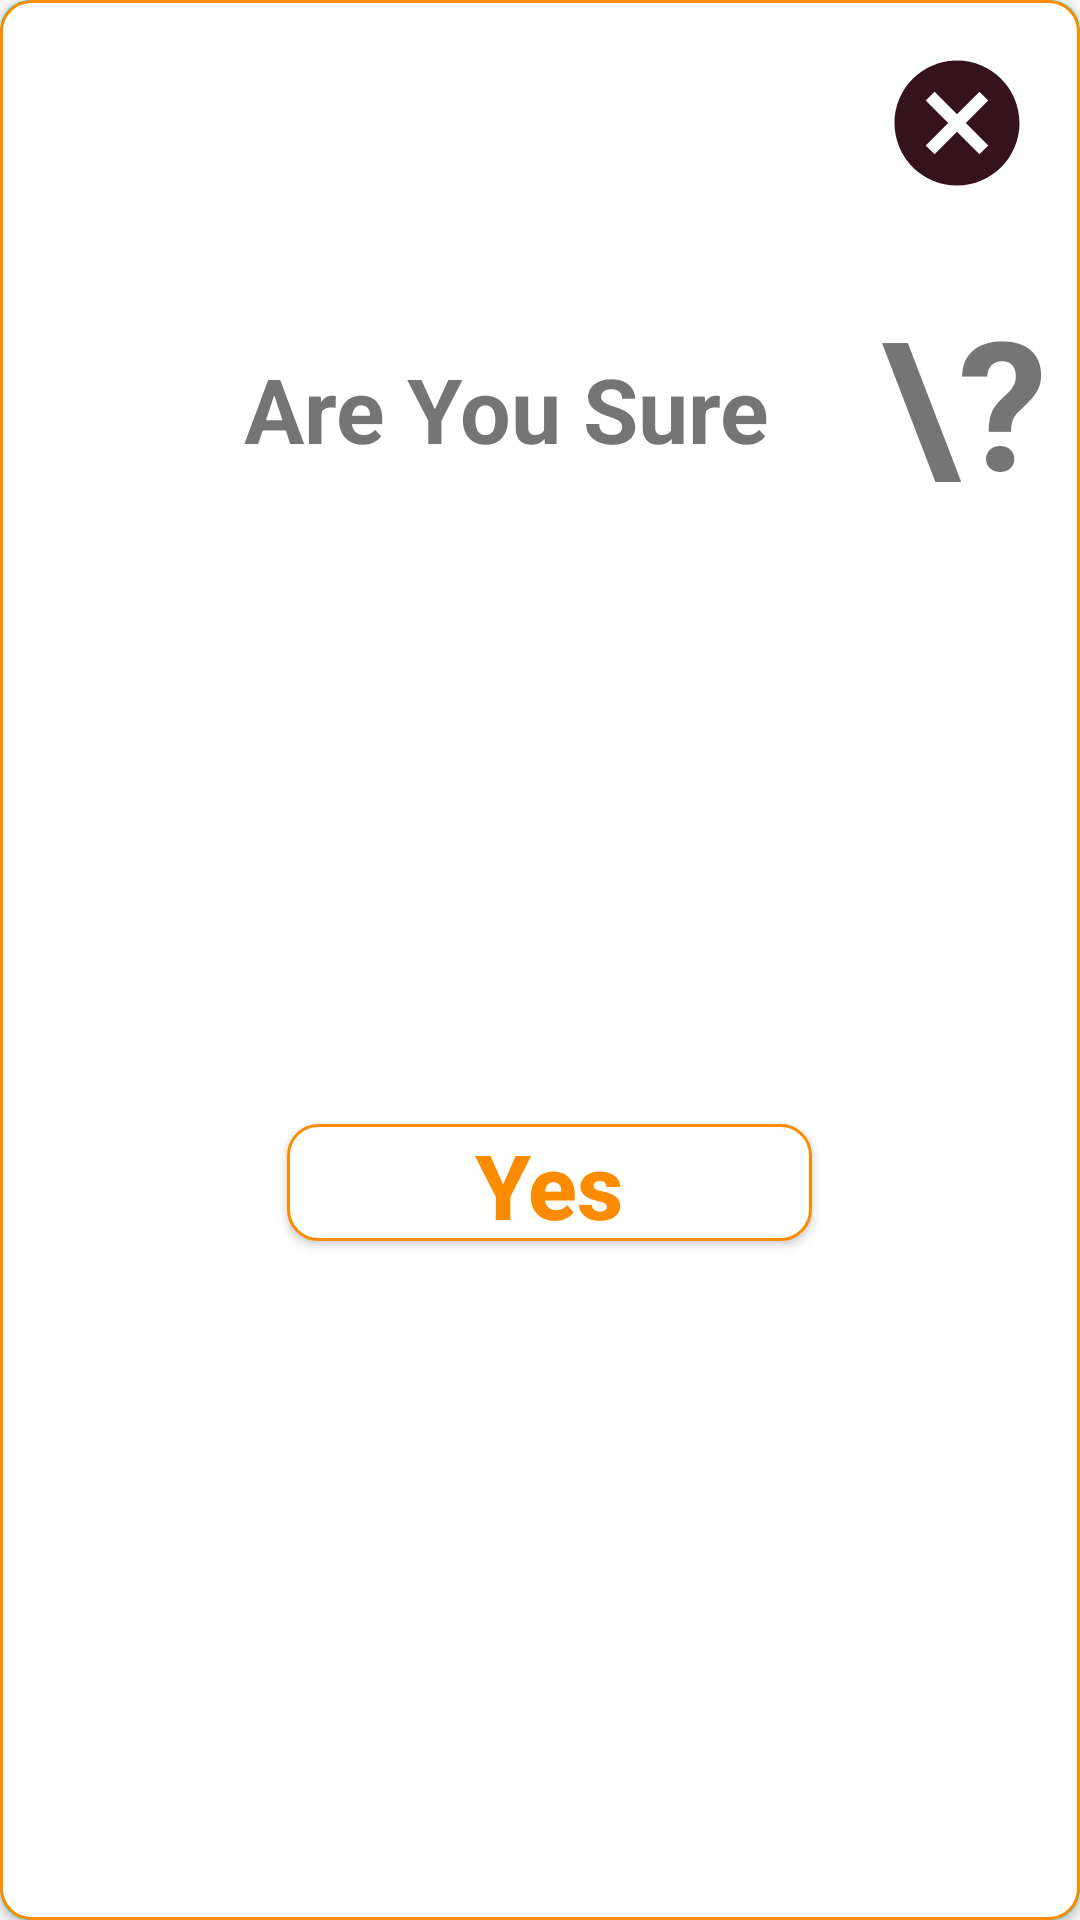

Icon click points for this 1080px x 1920px phone screenshot, format [x,y]:
cancel: [957,123]
